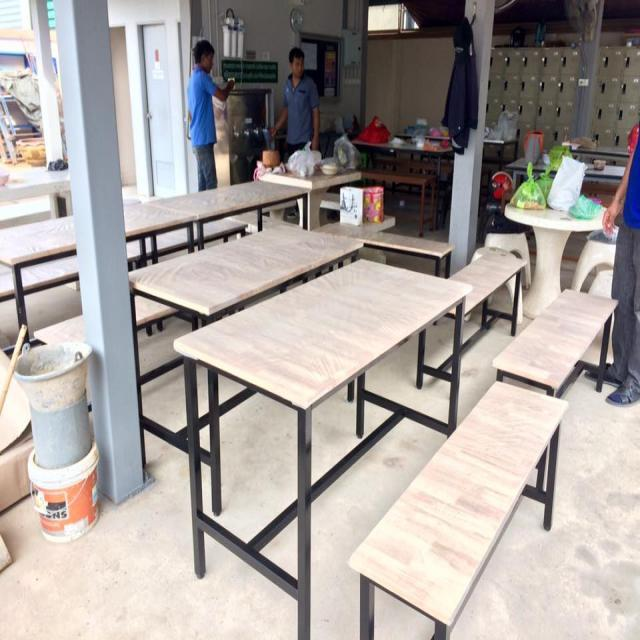table: (177, 266, 473, 416), (169, 181, 309, 234)
